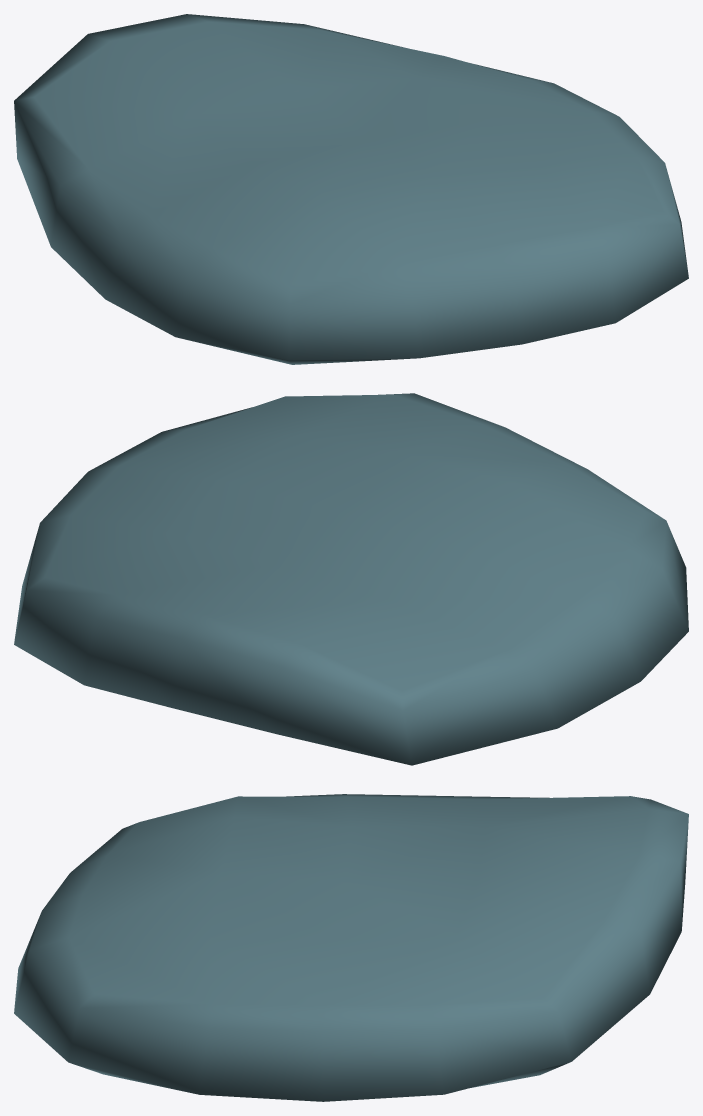
File: Rock_B_04_LOD2.gltf
3 views of the same model, one above another, from view 1: azimuth 30°, elevation 25°; view 2: azimuth 150°, elevation 25°; view 3: azimuth 270°, elevation 25° (orthographic). The views are drawn at different scales.
Parts seen in each view (by area): view 1: Rock_B_04_LOD2_Cube.757; view 2: Rock_B_04_LOD2_Cube.757; view 3: Rock_B_04_LOD2_Cube.757.
Boxes of the visible parts, x1=… form: Rock_B_04_LOD2_Cube.757: x1=14, y1=14, x2=688, y2=364; Rock_B_04_LOD2_Cube.757: x1=14, y1=393, x2=688, y2=765; Rock_B_04_LOD2_Cube.757: x1=14, y1=794, x2=688, y2=1101.
Bounding box in the file's own units: 5.2 × 1.27 × 5.67.
1 material, 1 textured.
